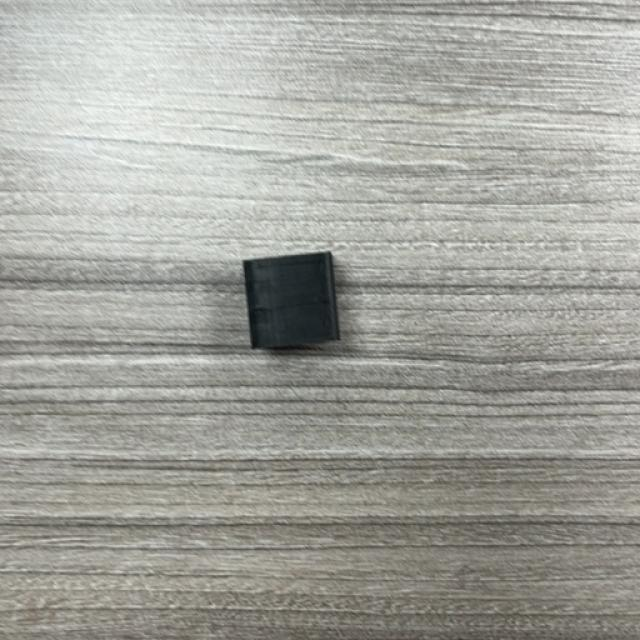Negro: (242, 252, 341, 351)
